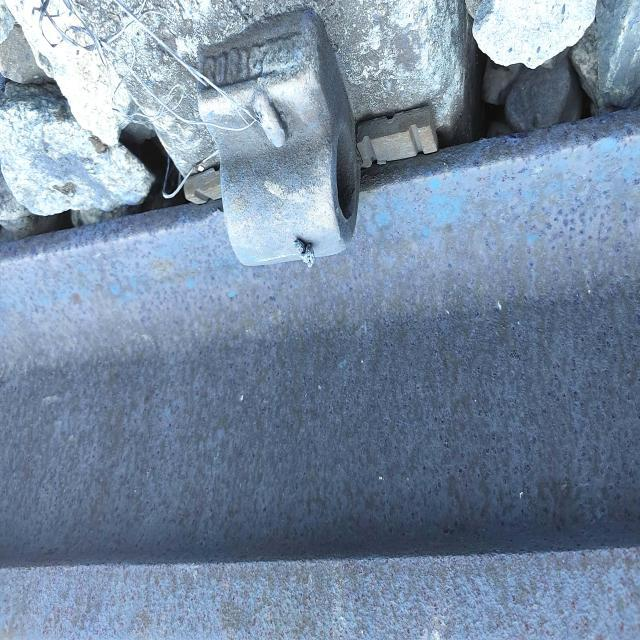Missing Fastener: (198, 24, 362, 266)
